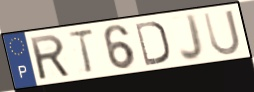6: (102, 23, 138, 71)
D: (133, 19, 172, 68)
J: (178, 12, 206, 63)
R: (27, 32, 73, 82)
T: (66, 27, 96, 76)
U: (201, 8, 243, 58)
